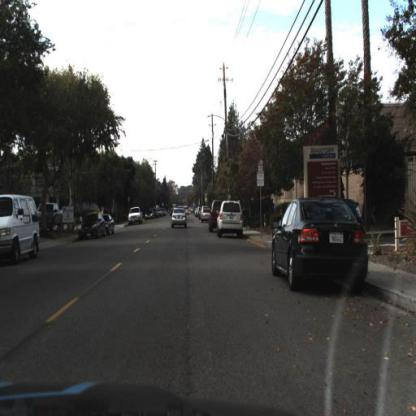car: (270, 197, 371, 290), (1, 194, 42, 266), (217, 200, 245, 238), (76, 210, 106, 243), (76, 211, 106, 244), (38, 199, 65, 234), (349, 199, 368, 233), (207, 195, 221, 237), (128, 202, 146, 229), (171, 207, 189, 233), (169, 208, 190, 229), (103, 212, 116, 240), (201, 207, 213, 224)
